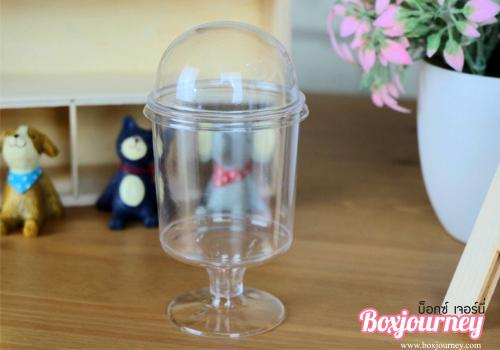plastic_glass: (143, 18, 326, 345)
